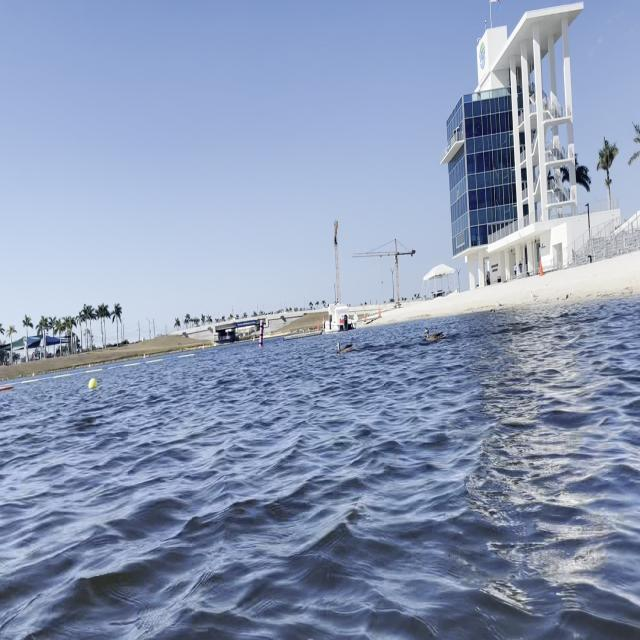buoy: (88, 378, 96, 389)
